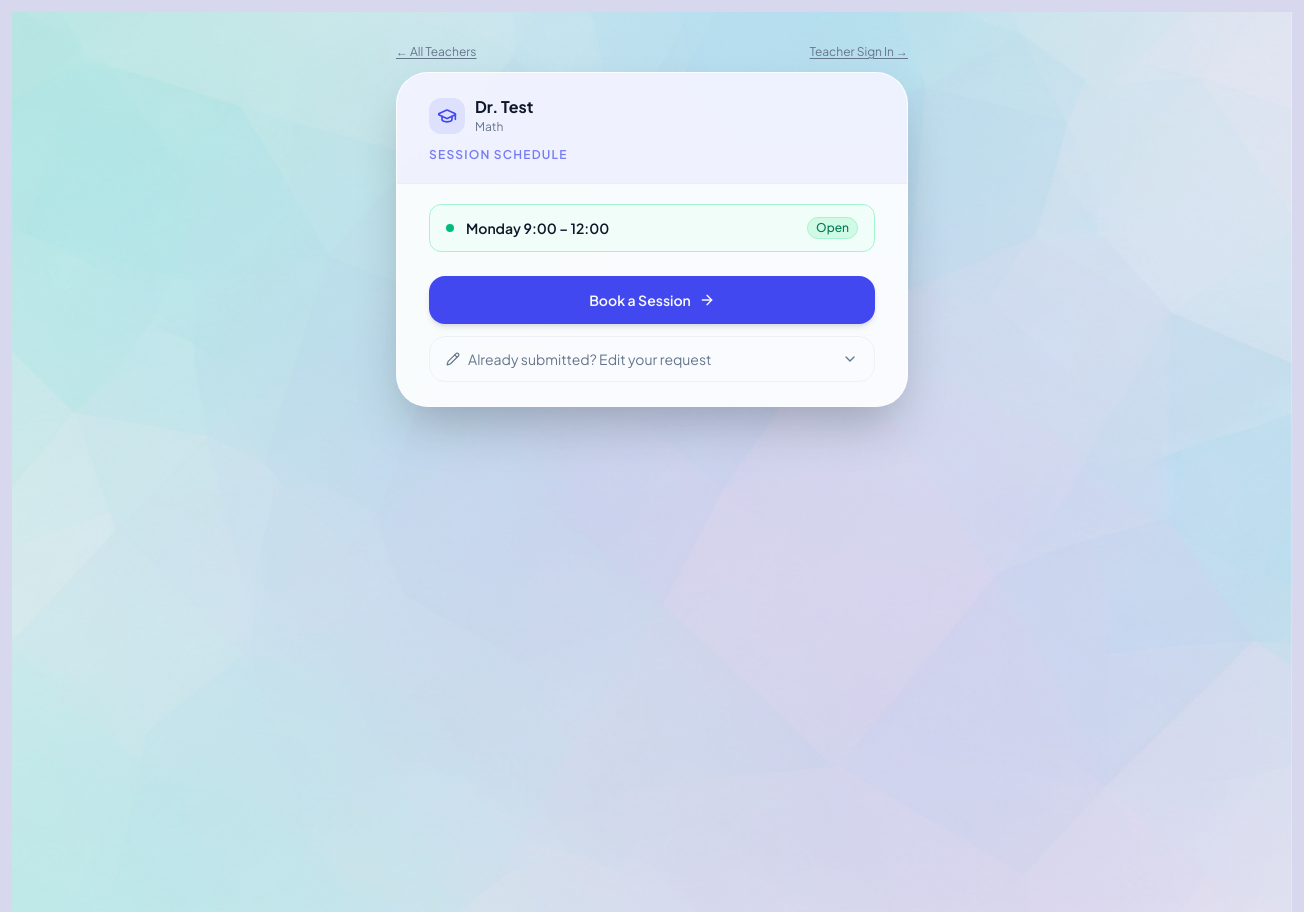
Test case: Slot picker (page 0) › Next becomes enabled after selecting a slot
The image size is (1304, 912).
Click the button "Book a Session" at (652, 300), box [429,276,875,324]
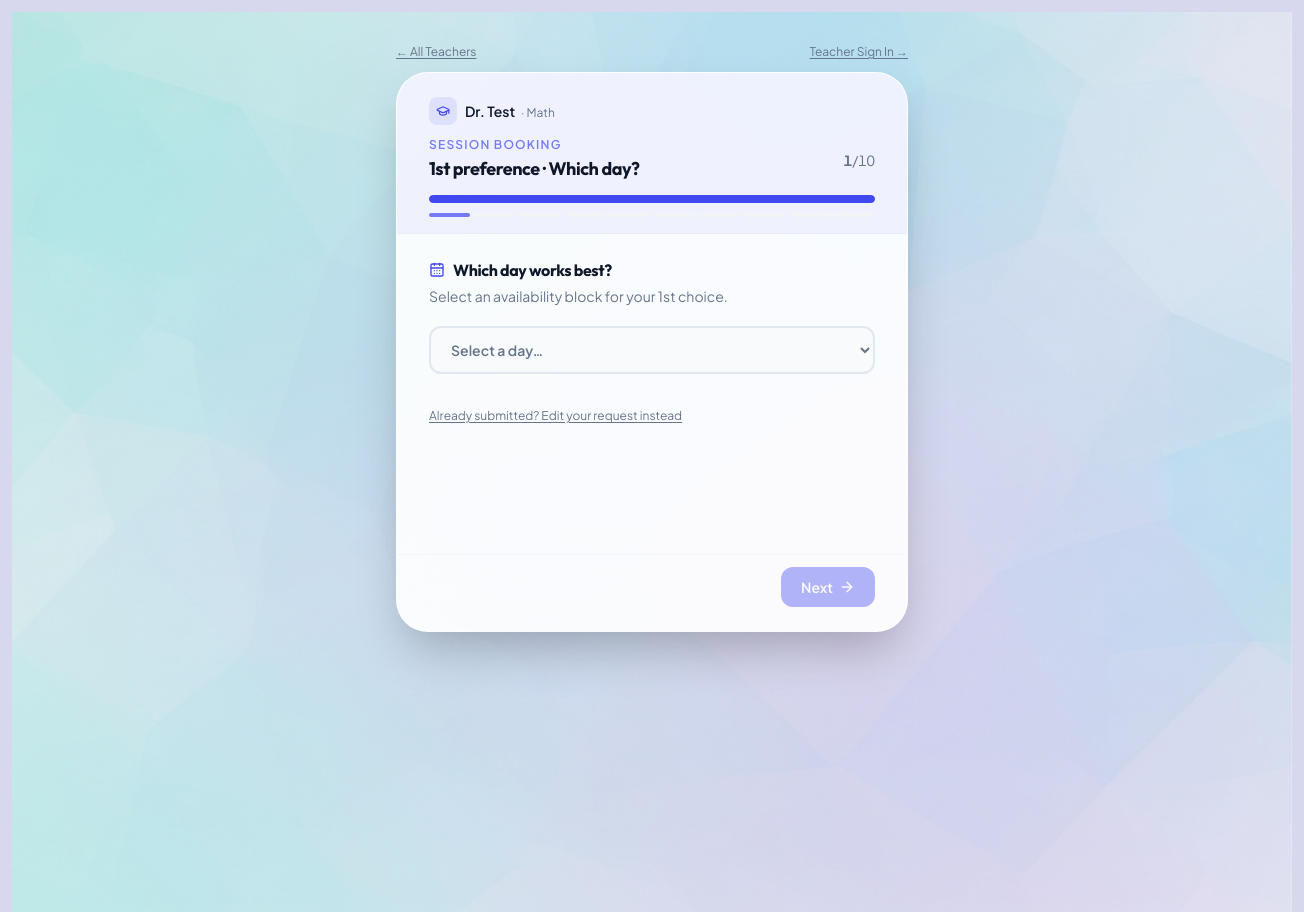
Select "Monday 9:00 – 12:00" in the dropdown at (652, 350), box [429,326,875,374]
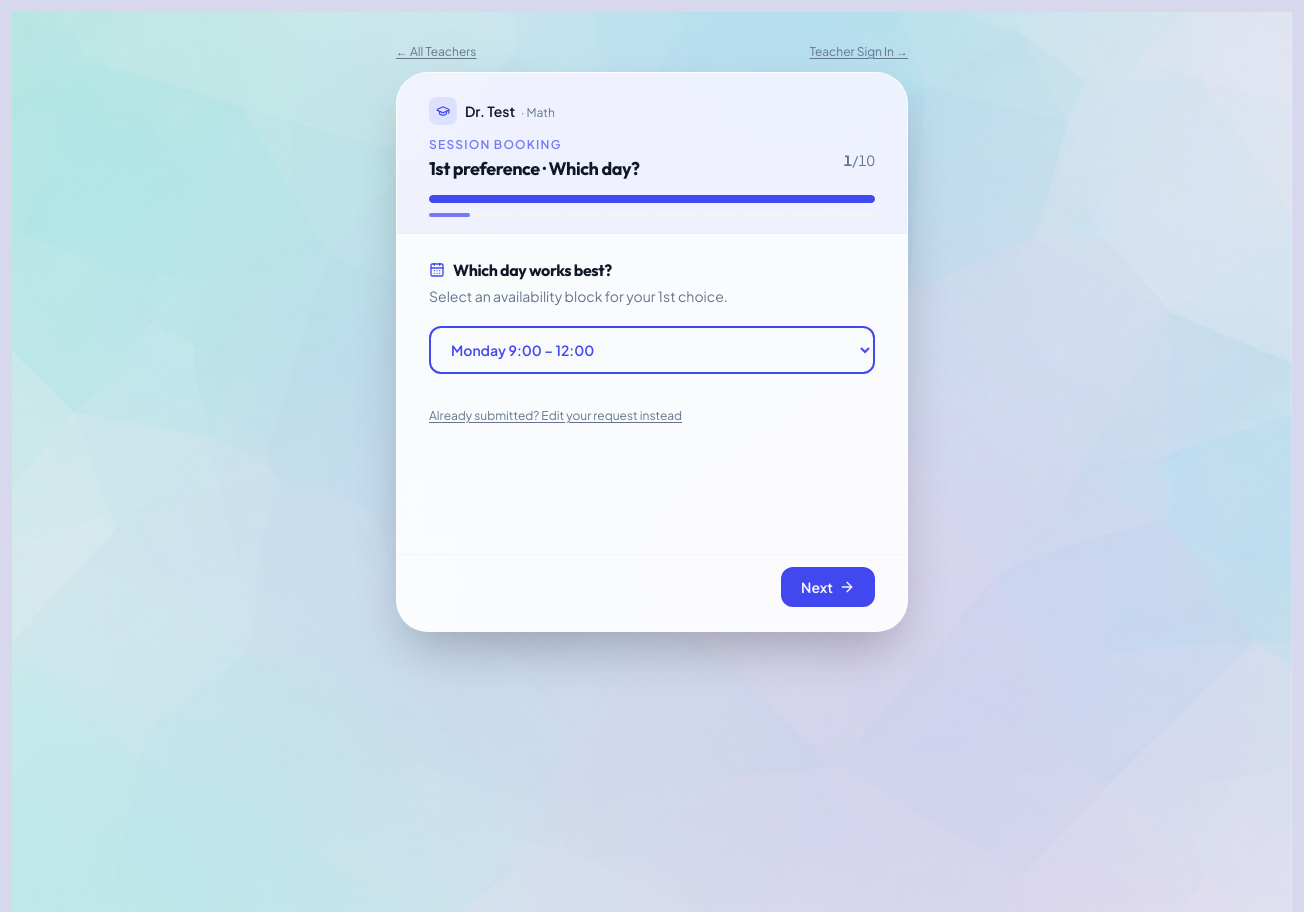
Check: the button "Next" is enabled, box [781,567,875,607]
